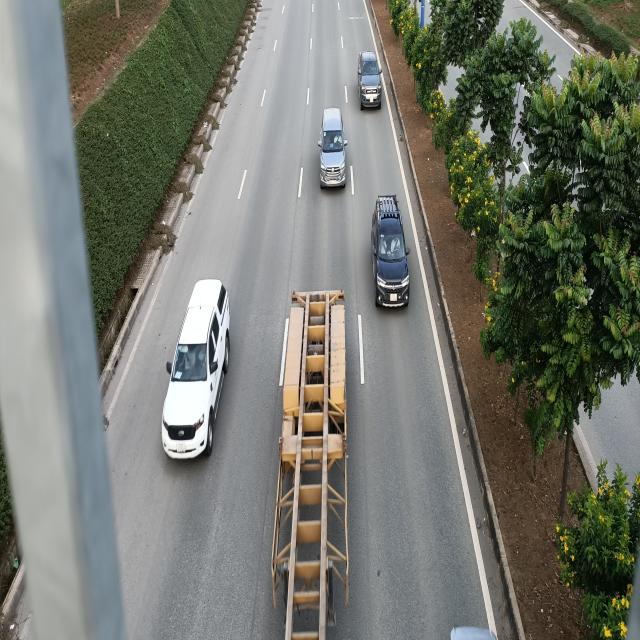car: (165, 279, 231, 459), (369, 192, 408, 306), (319, 108, 348, 190), (357, 51, 382, 111)
container: (270, 288, 352, 640)
